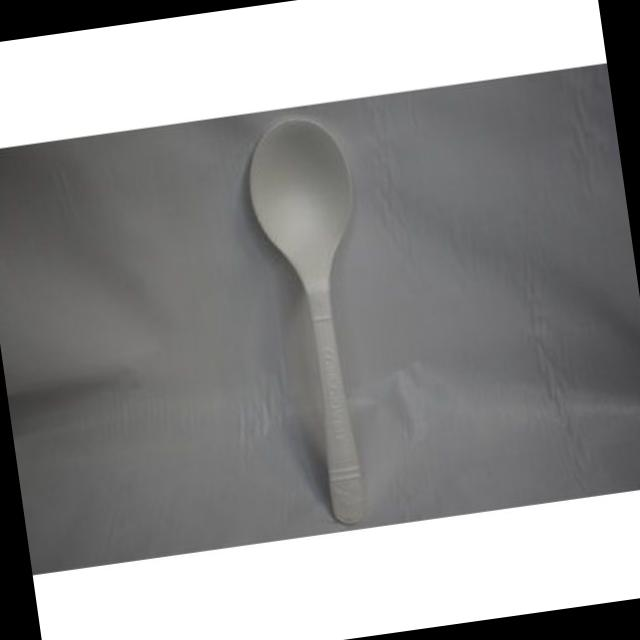spoon: (230, 109, 404, 538)
